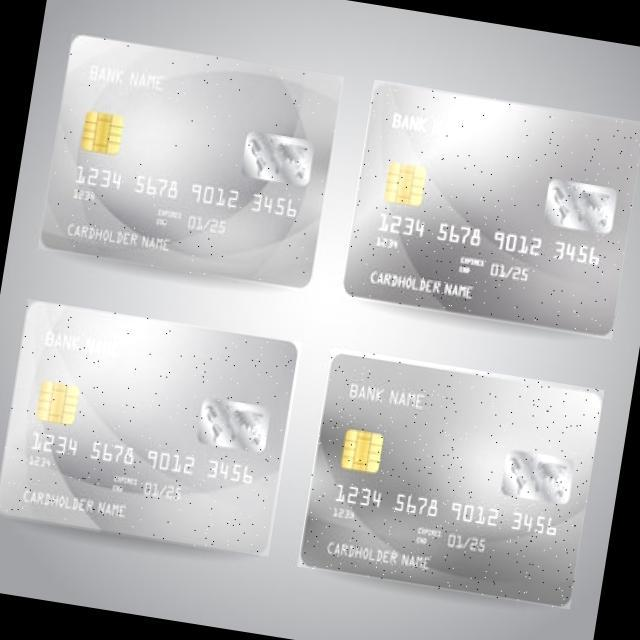payment_card: (300, 353, 601, 610), (345, 76, 640, 338), (42, 33, 338, 290), (0, 300, 297, 556)
